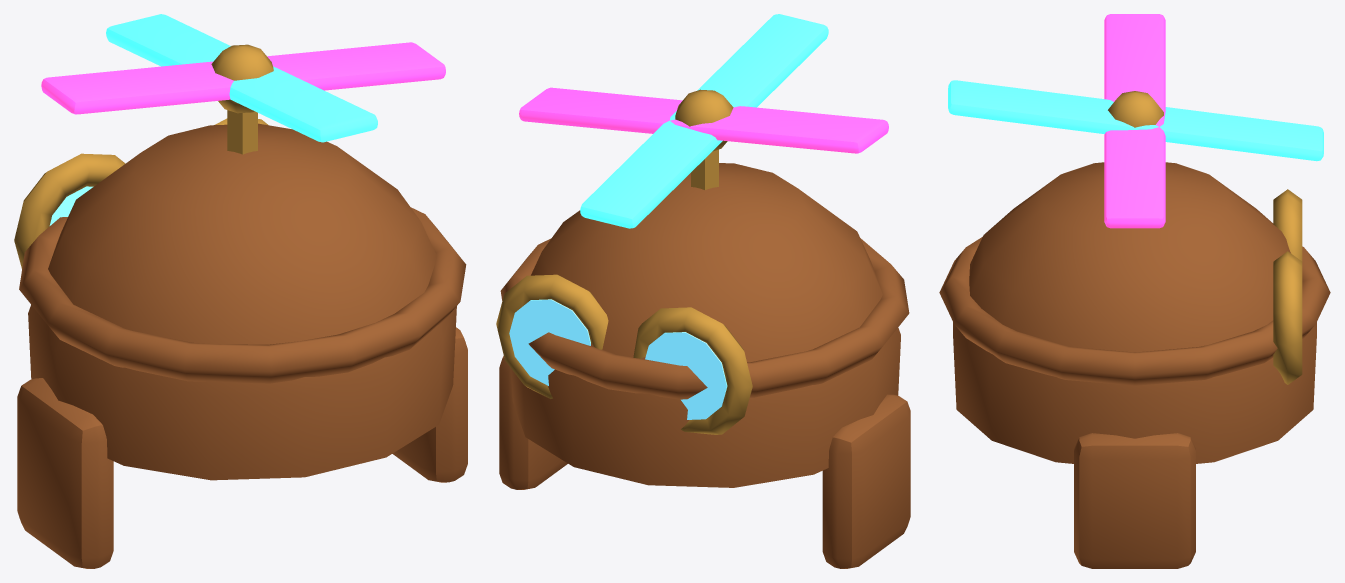
File: outfit_sky.glb
The picture shows the model from 3 angles, left to right: view 1: azimuth 30°, elevation 25°; view 2: azimuth 150°, elevation 25°; view 3: azimuth 270°, elevation 25°; orthographic projection. The views are drawn at different scales.
Visible parts, largest first — view 1: HeadMesh, PropMesh; view 2: HeadMesh, PropMesh; view 3: HeadMesh, PropMesh.
Part boxes in pixels (x1,y1,x2,y2): HeadMesh: [14, 110, 467, 568]; PropMesh: [41, 14, 445, 142]; HeadMesh: [496, 149, 910, 568]; PropMesh: [519, 14, 888, 228]; HeadMesh: [939, 162, 1330, 568]; PropMesh: [948, 14, 1323, 228].
Size of the model in its own units: 0.65 by 0.7245 by 0.64.
